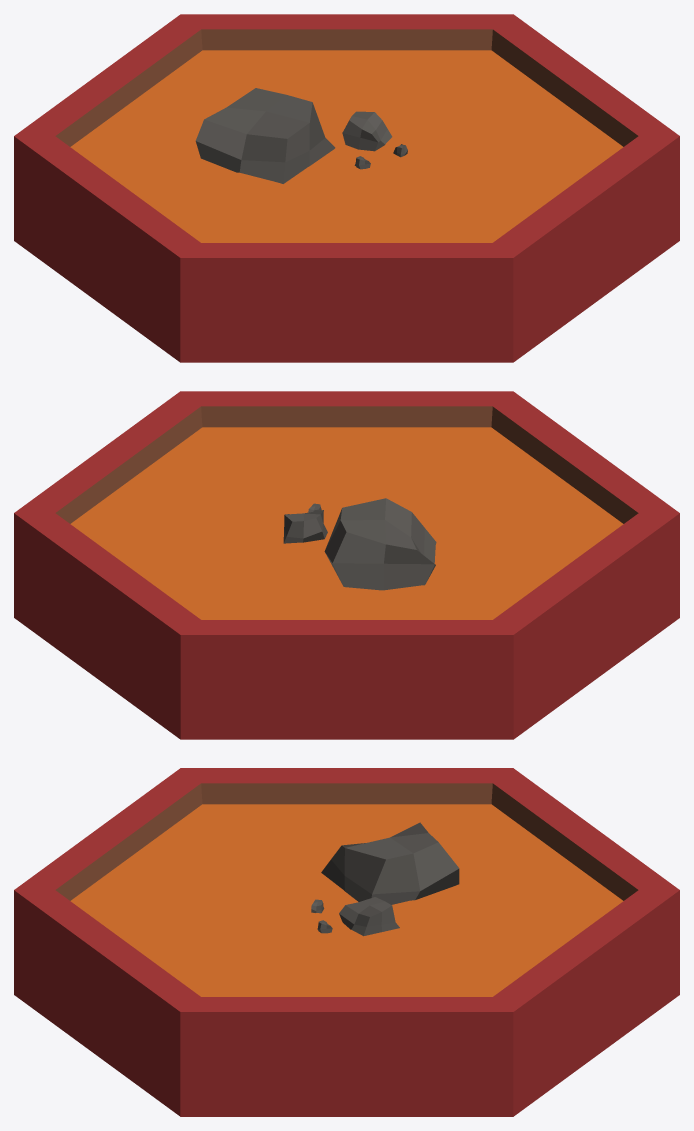
The model's file is HellLake.fbx.
The picture shows the model from 3 angles, top to bottom: view 1: azimuth 30°, elevation 25°; view 2: azimuth 150°, elevation 25°; view 3: azimuth 270°, elevation 25°; orthographic projection.
Parts seen in each view (by area): view 1: HellLake; view 2: HellLake; view 3: HellLake.
Part boxes in pixels (box(x1,y1,x2,y2)): HellLake: box(14, 14, 679, 362); HellLake: box(14, 391, 679, 739); HellLake: box(14, 768, 679, 1116).
Size of the model in its own units: 1 by 0.2495 by 1.15.
